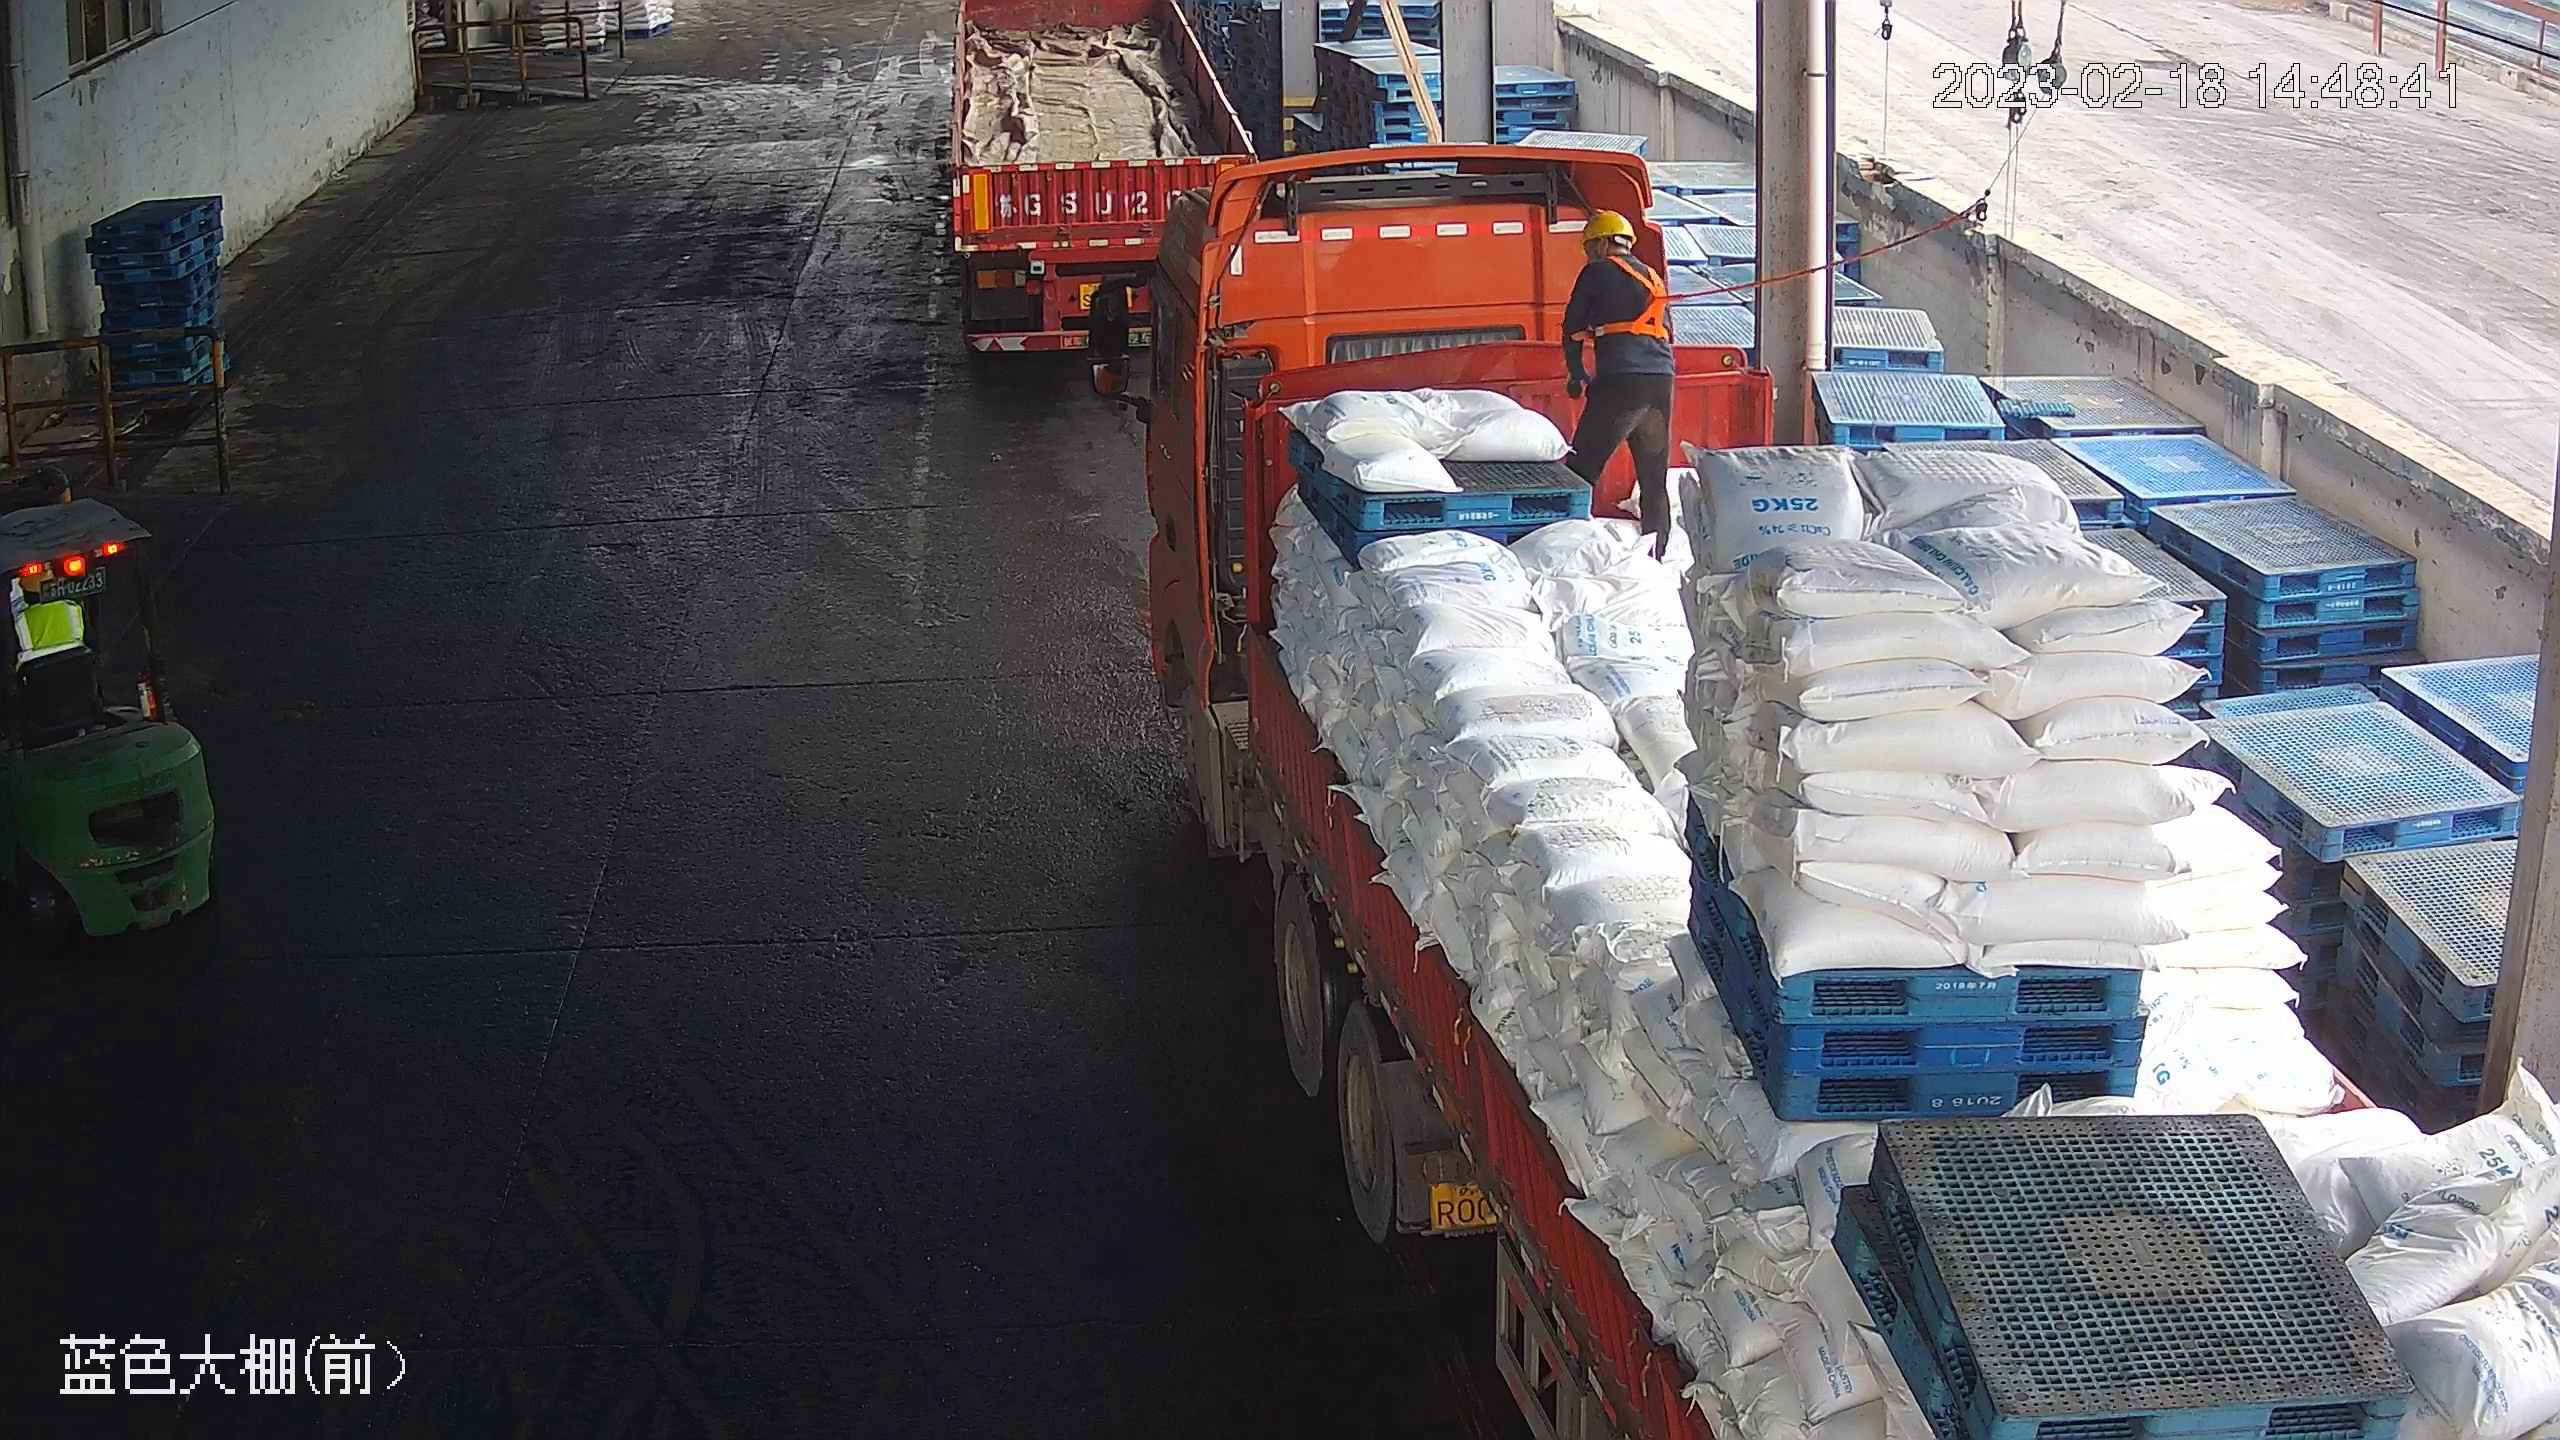belt: (1586, 255, 1677, 343)
head: (1562, 203, 1678, 305)
helmet: (1580, 204, 1633, 244)
people: (1557, 202, 1677, 559)
truck: (1140, 106, 2558, 1440), (931, 1, 1281, 362)
